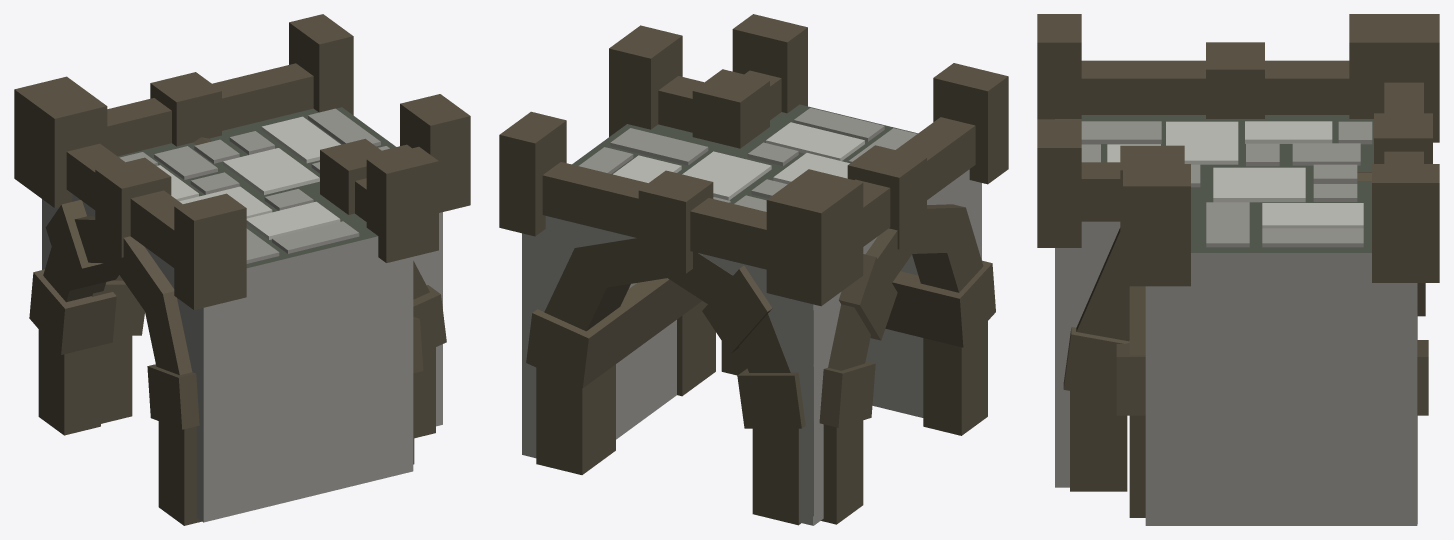
Rendered from stonebridge_corner.fbx.
3 views of the same model, side by side, from view 1: azimuth 30°, elevation 25°; view 2: azimuth 150°, elevation 25°; view 3: azimuth 270°, elevation 25° (orthographic). The views are drawn at different scales.
Visible parts, largest first — view 1: polySurface143; view 2: polySurface143; view 3: polySurface143.
Part boxes in pixels (left/top/right/bottom): polySurface143: left=14, top=14, right=470, bottom=525; polySurface143: left=499, top=14, right=1008, bottom=525; polySurface143: left=1037, top=14, right=1439, bottom=525.
Bounding box in the file's own units: 90.81 × 86.6 × 88.95.
Materials: 1 (1 with a texture image).
